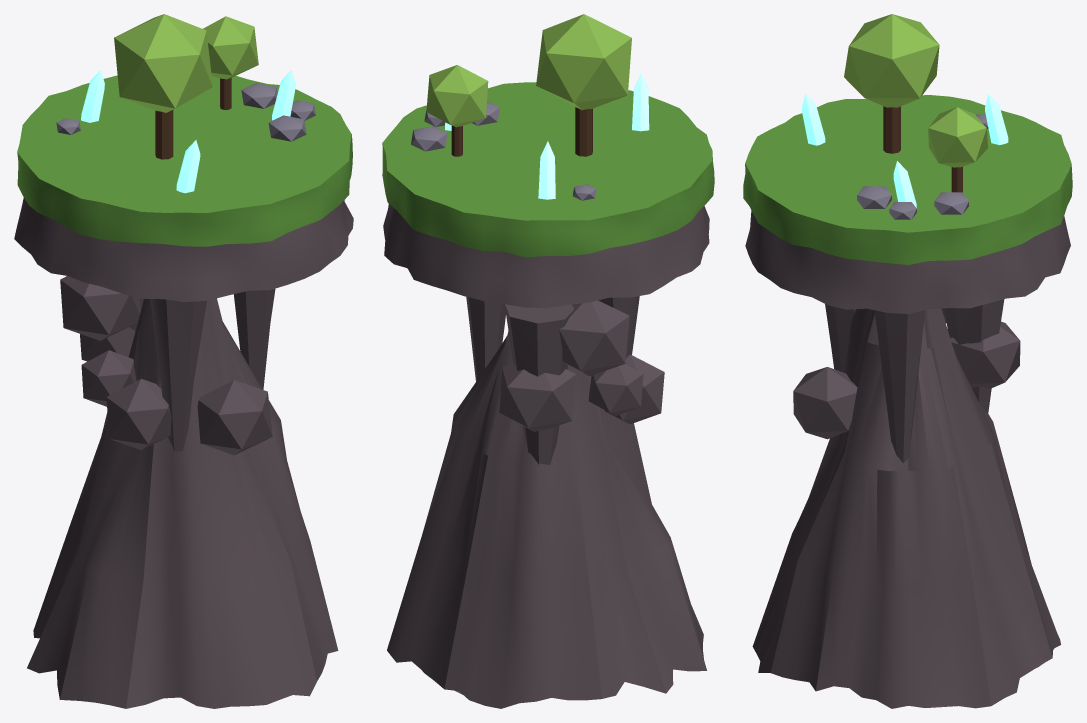
The model's file is island2.glb.
3 renders of one model, left to right at view 1: azimuth 30°, elevation 25°; view 2: azimuth 150°, elevation 25°; view 3: azimuth 270°, elevation 25°, orthographic. The views are drawn at different scales.
Visible parts, largest first — view 1: Island2; view 2: Island2; view 3: Island2.
Boxes of the visible parts, <box> form: Island2: <box>14,14,353,708</box>; Island2: <box>382,14,714,708</box>; Island2: <box>743,14,1072,708</box>.
Bounding box in the file's own units: 2.01 × 4.23 × 2.03.
